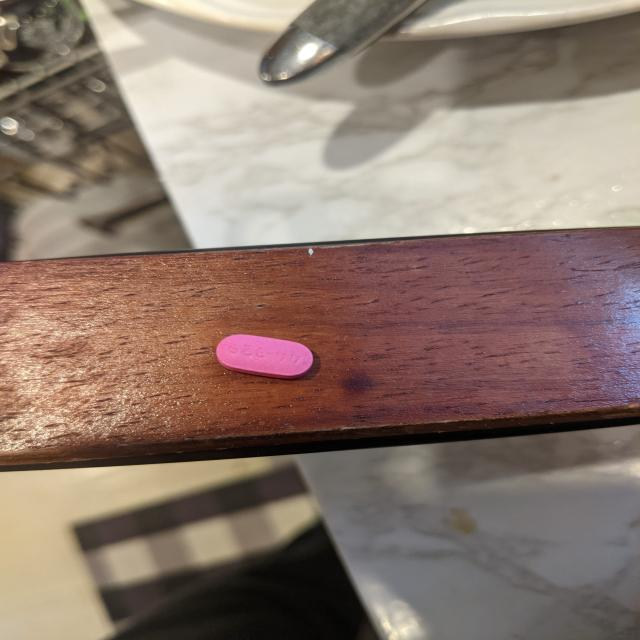non-organic waste: (215, 333, 314, 380)
